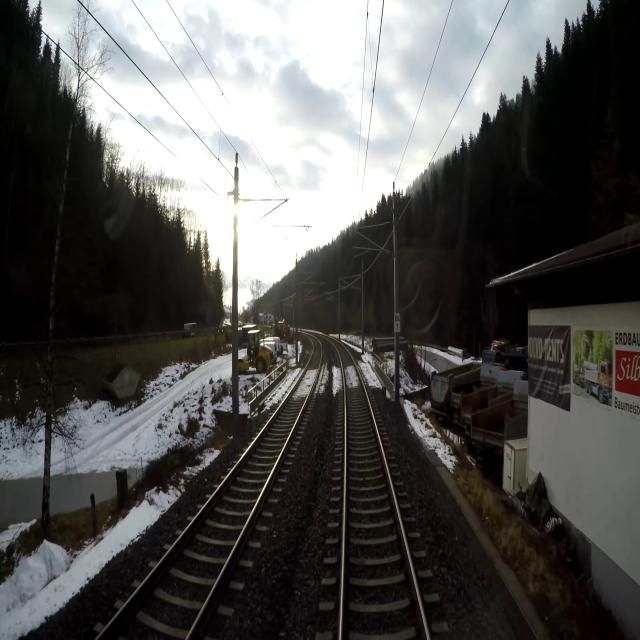rail-track: (100, 338, 320, 639), (335, 341, 425, 639)
